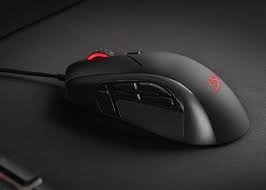mouse: (57, 42, 253, 156)
